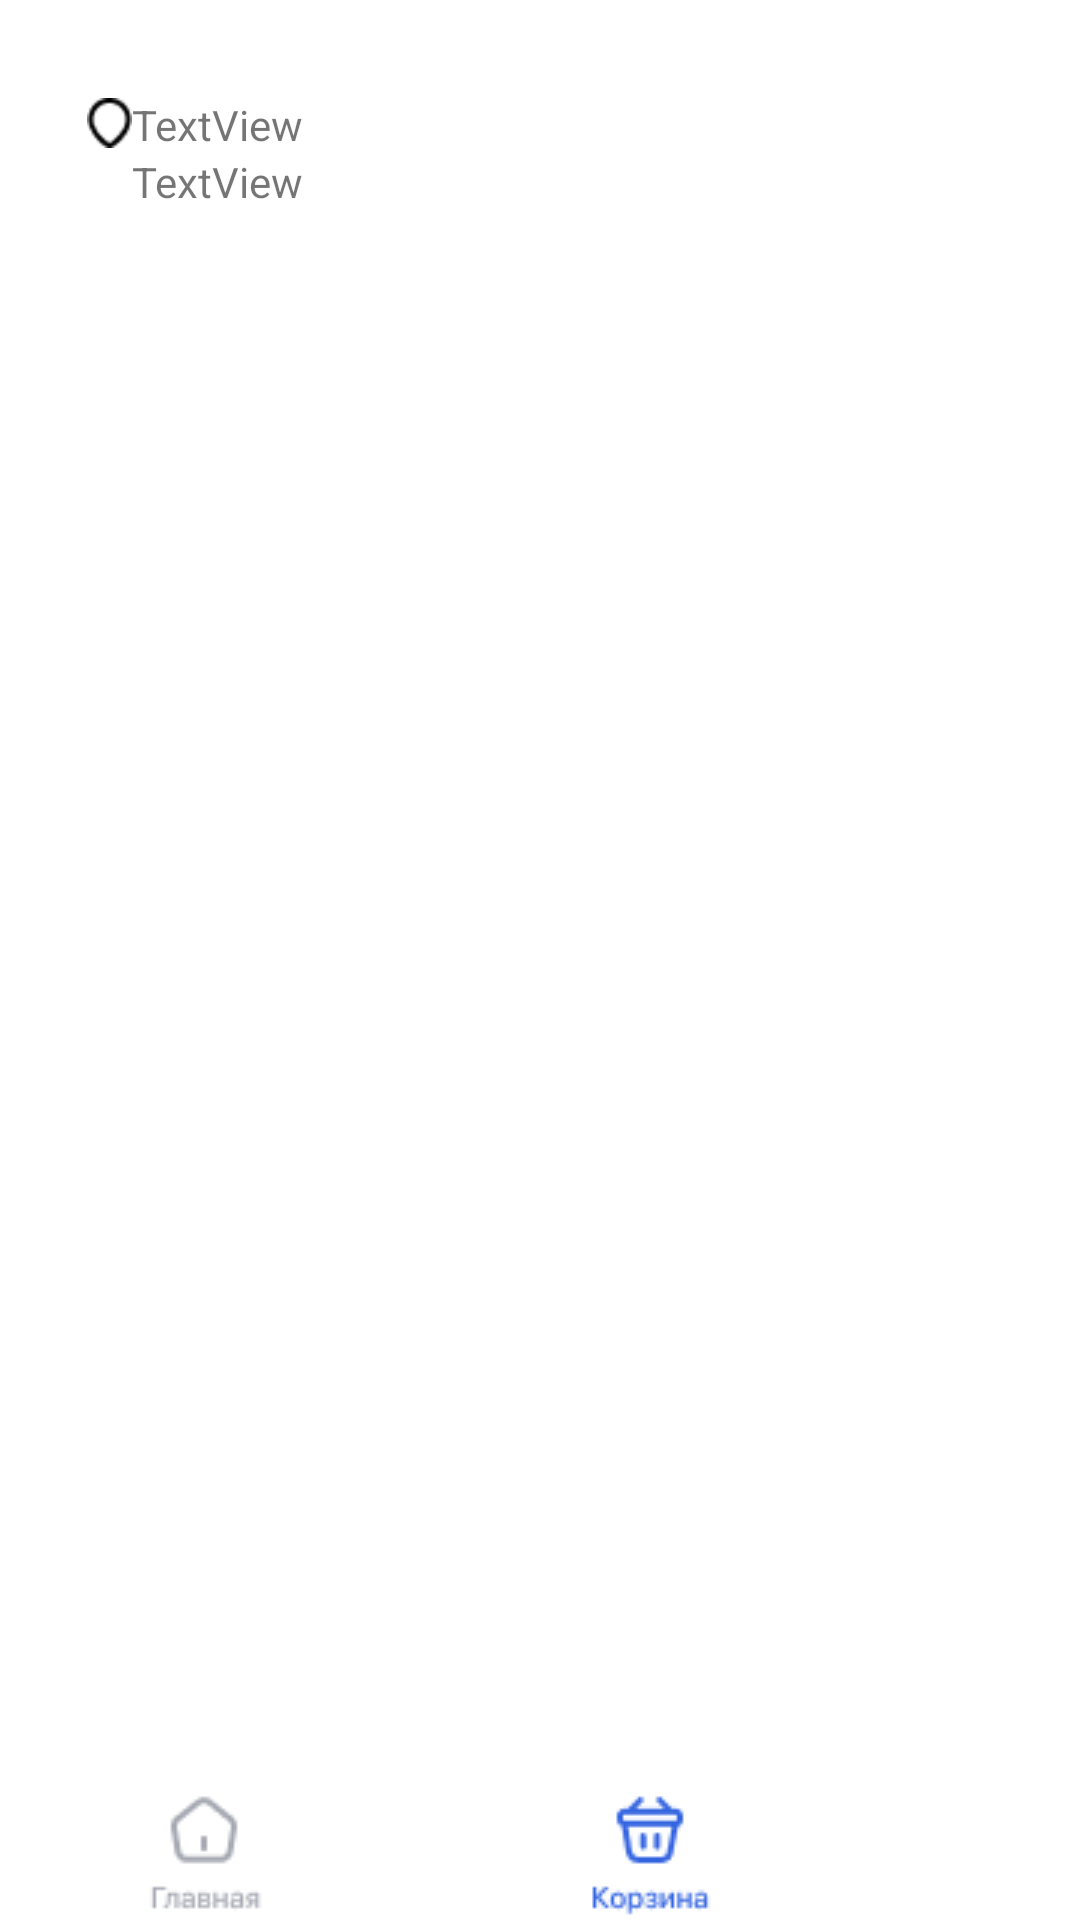

Screen size 1080 x 1920. Icon name, then its center in pixels as (x,y):
tab: (205,1852), (650,1855)
